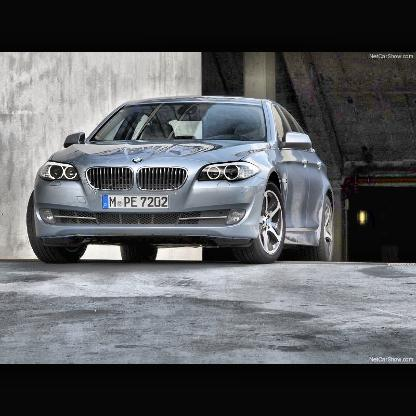BMW ActiveHybrid 5 Sedan 2012: (27, 95, 341, 265)
